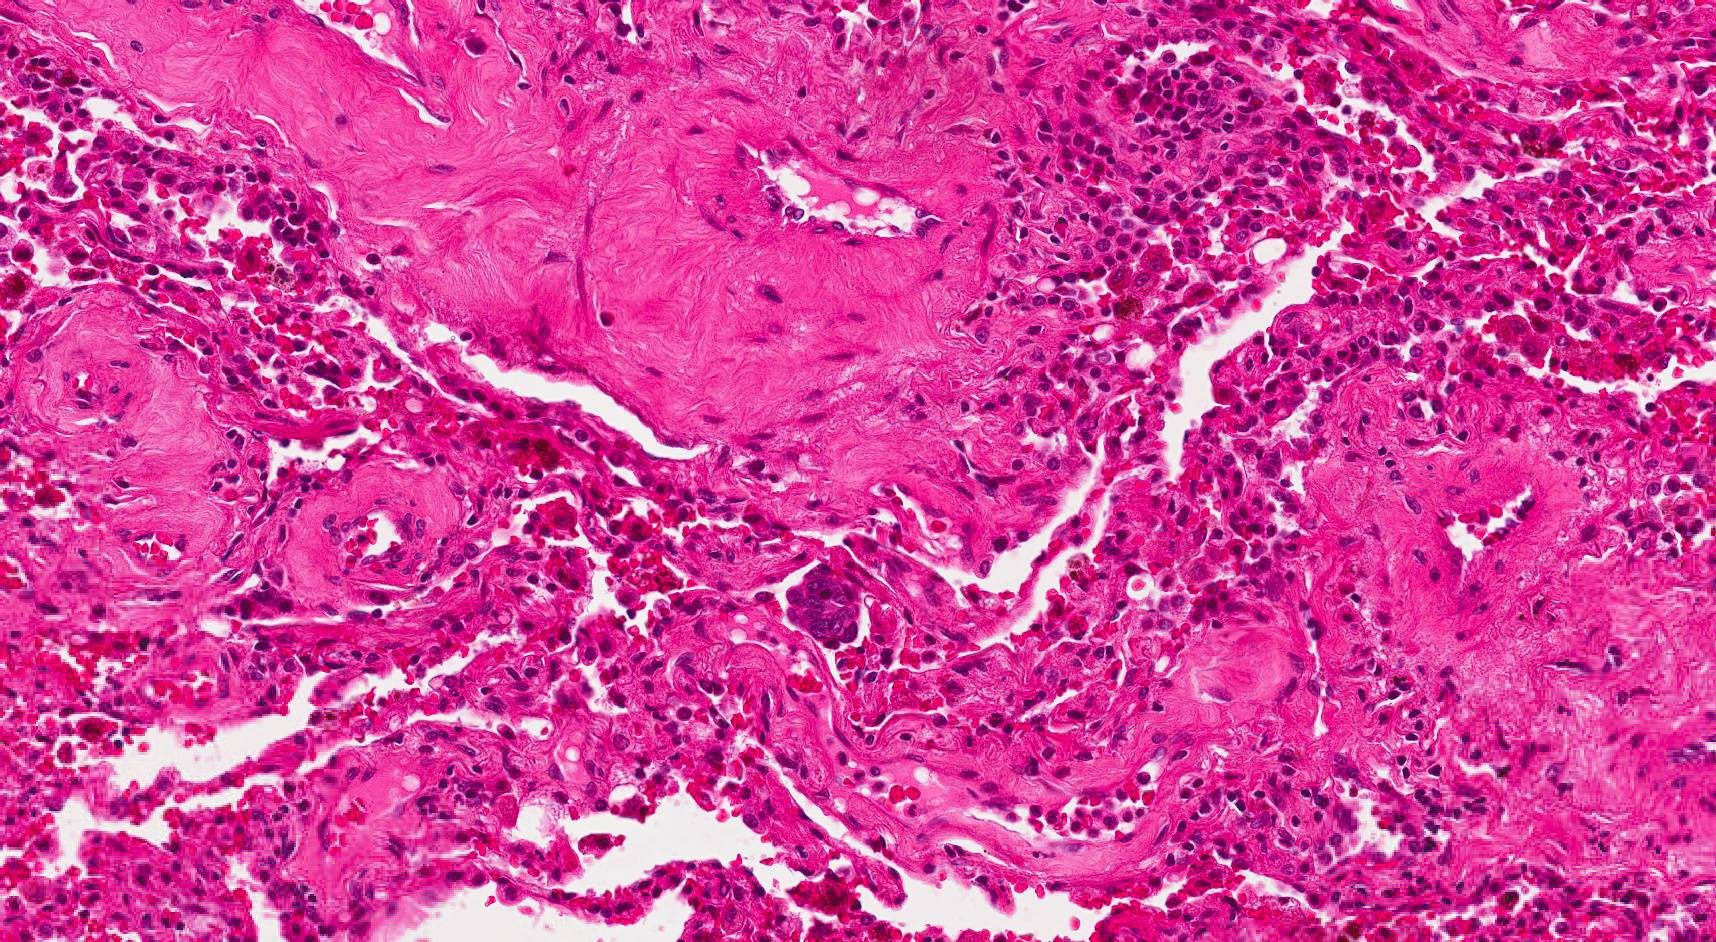stas: (785, 570, 863, 650)
